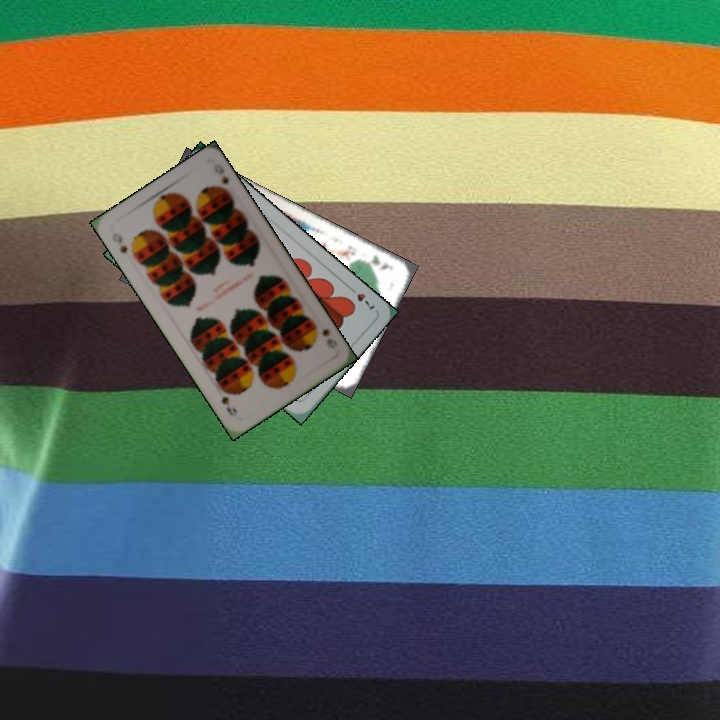GK: (358, 251, 396, 273)
H7: (344, 282, 378, 312)
S9: (108, 229, 130, 256), (309, 319, 333, 339)
